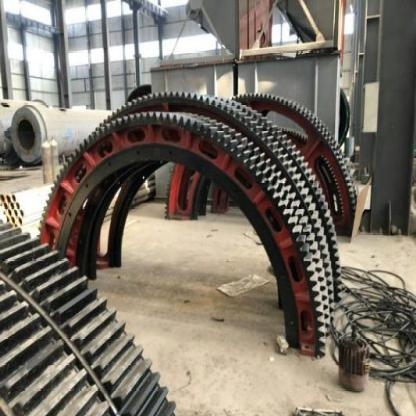FOD: (37, 108, 327, 363)
